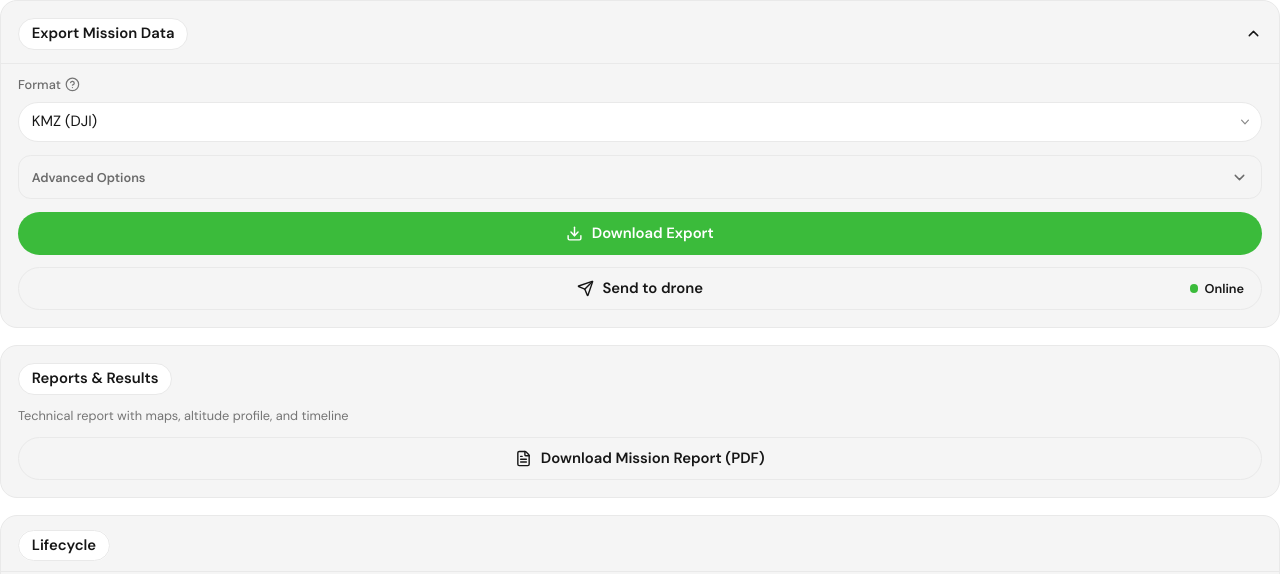
Test: ExportPanel - send to drone › shows the success message and refetches after a dispatch
Click the button with test id "send-to-drone-btn" at [640, 289], box [18, 267, 1262, 310]
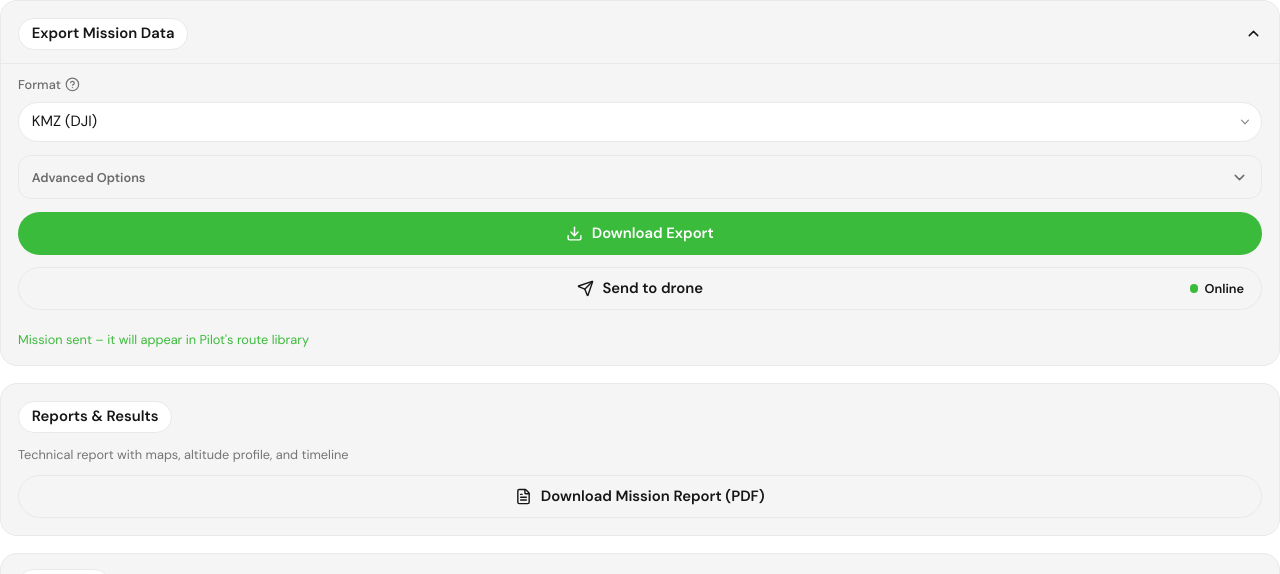
expect the text "Mission sent – it will appear in Pilot's route library" is shown: met, box [18, 331, 309, 348]
